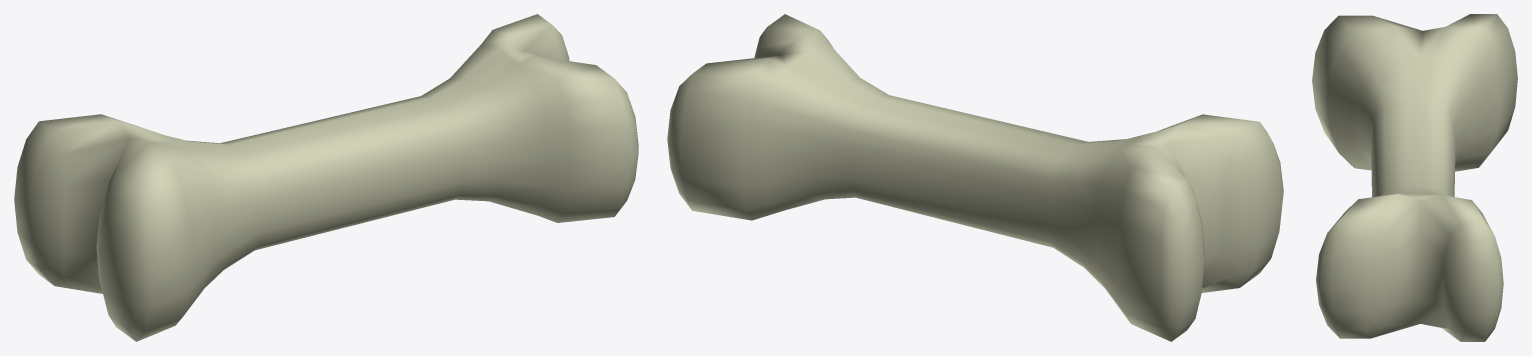
File: bone .fbx
3 views of the same model, side by side, from view 1: azimuth 30°, elevation 25°; view 2: azimuth 150°, elevation 25°; view 3: azimuth 270°, elevation 25° (orthographic). The views are drawn at different scales.
Parts seen in each view (by area): view 1: pCube35; view 2: pCube35; view 3: pCube35.
Part boxes in pixels (<box>): pCube35: <box>14,14,638,341</box>; pCube35: <box>667,14,1283,341</box>; pCube35: <box>1312,14,1517,341</box>.
Size of the model in its own units: 27.74 by 70.63 by 21.81.
